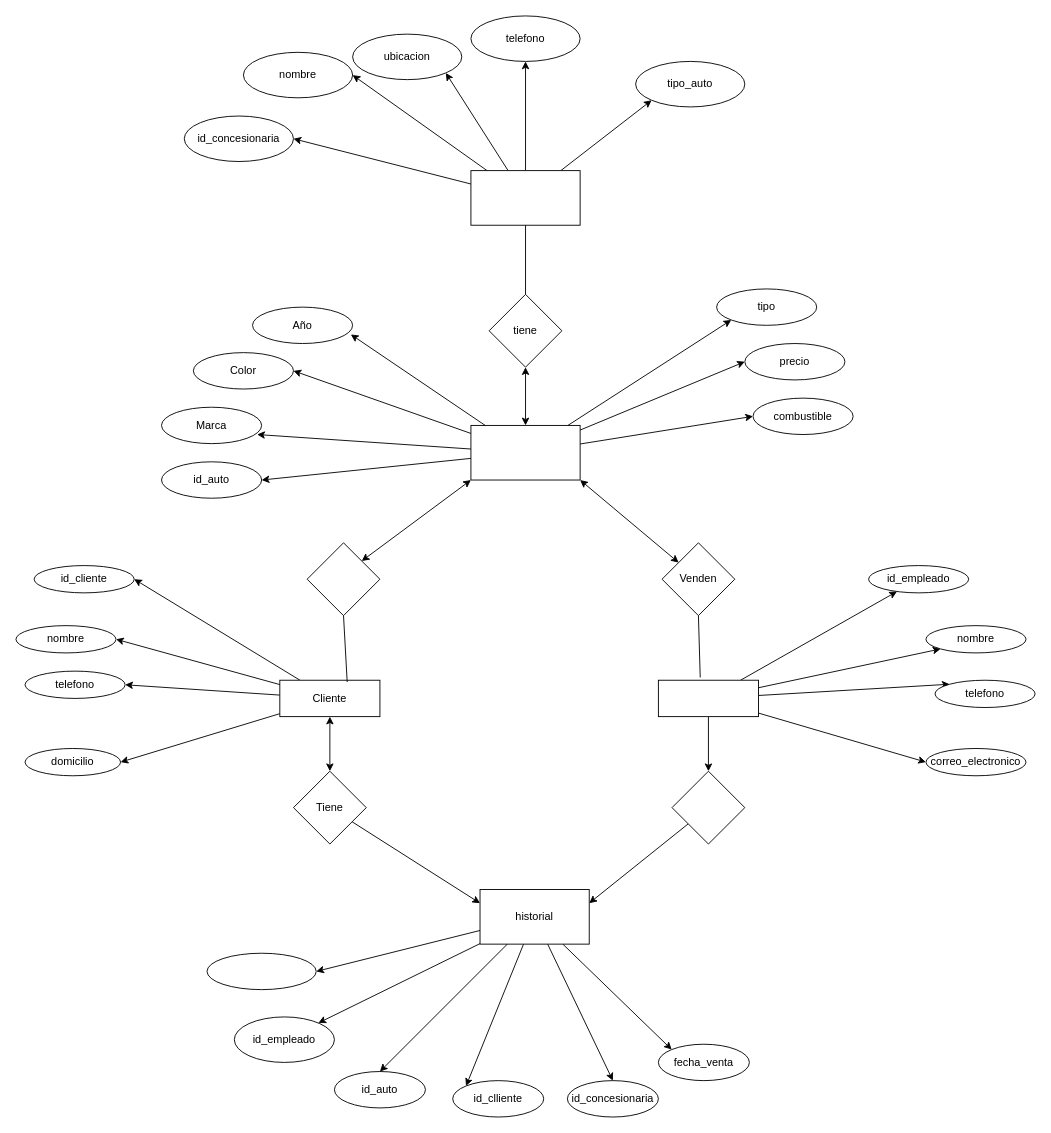
This 1051x1133 diagram has some shape labels left out. The shapes that lost their labels are listed below. From the top down, each one's centre as x and y in pixels, then its label:
At (x=525, y=197): "concesionaria".
At (x=525, y=452): "Auto".
At (x=343, y=579): "Compran".
At (x=707, y=698): "Empleado".
At (x=708, y=807): "Salida".
At (x=261, y=971): "id_historial".
